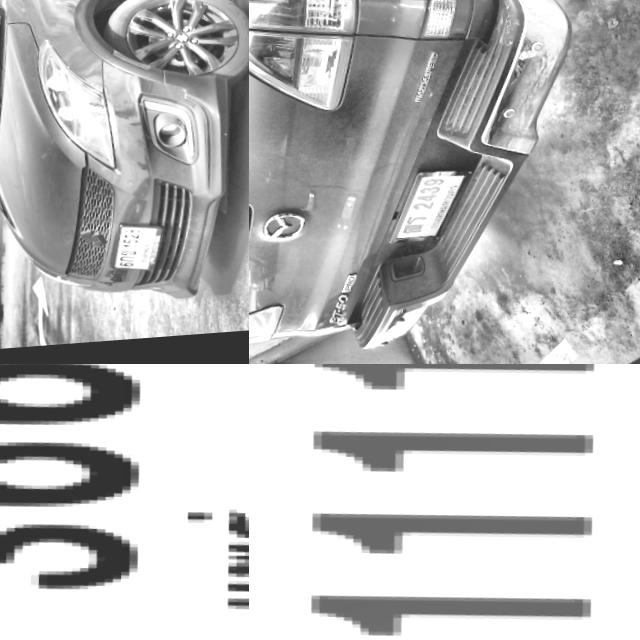license-plate: (249, 364, 640, 640), (0, 364, 249, 640), (375, 168, 473, 257), (98, 227, 155, 281)
